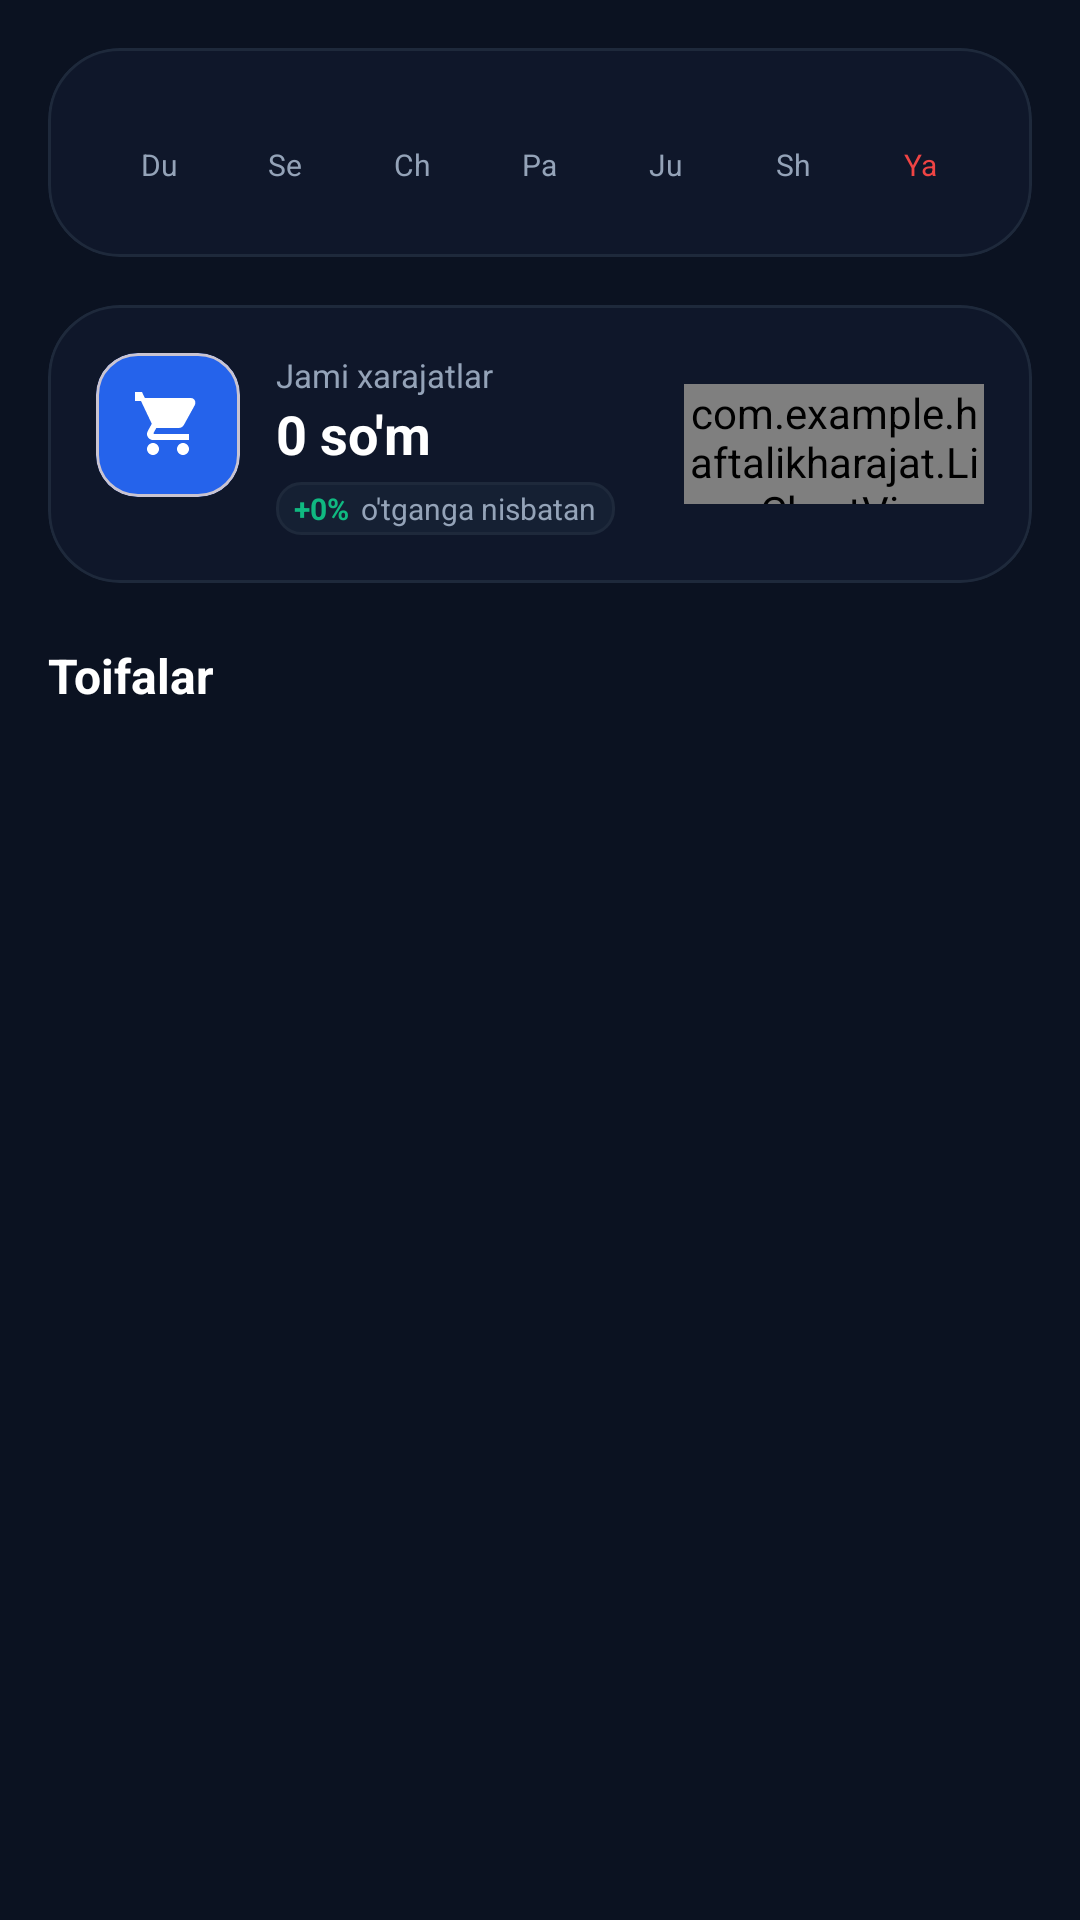

Point at icon controls on the screen. Image size 1080×1920, points as (x,y).
shopping: (165,423)
